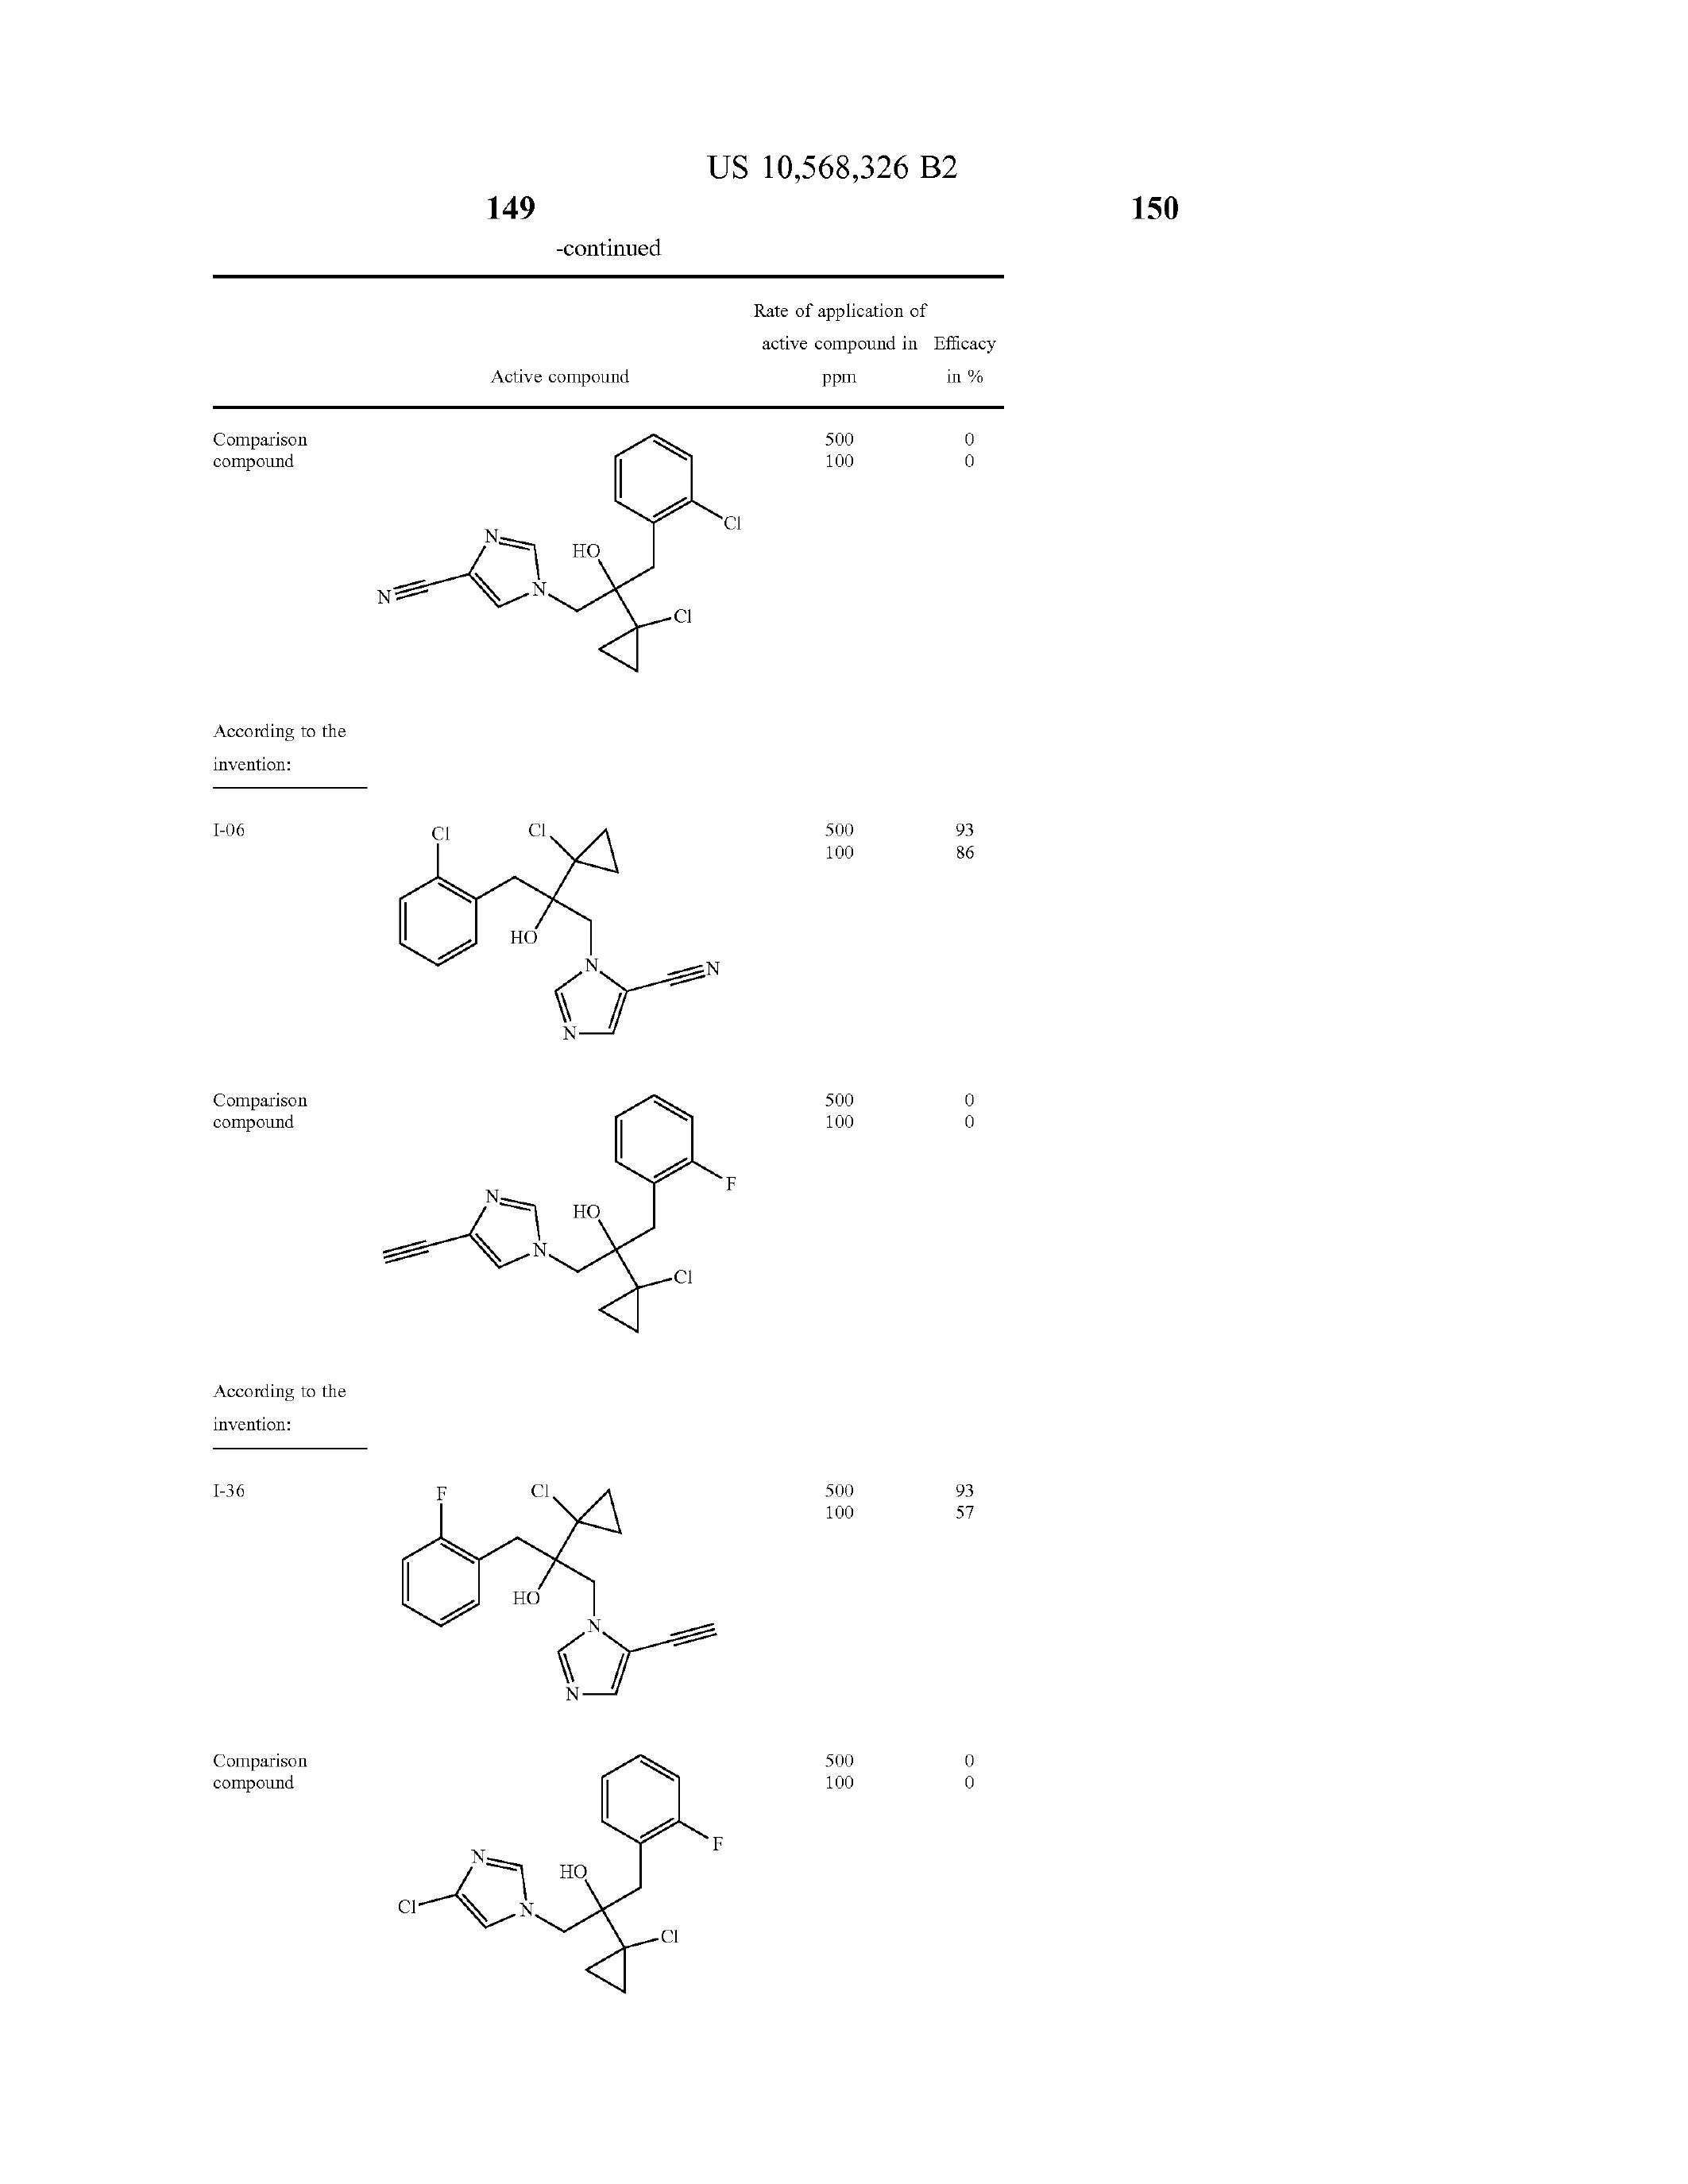relevant-structures: (365, 1739, 823, 2069), (337, 418, 773, 718), (344, 778, 794, 1067), (372, 1083, 750, 1390), (383, 1452, 761, 1734)
